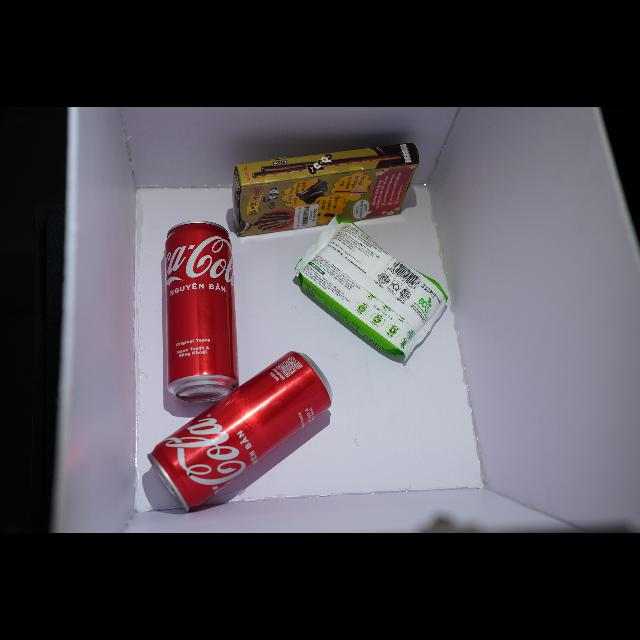banh_toppo_socola: (233, 143, 419, 236)
coca_cola: (148, 352, 332, 511), (162, 221, 238, 403)
khan_giay: (295, 216, 449, 360)
